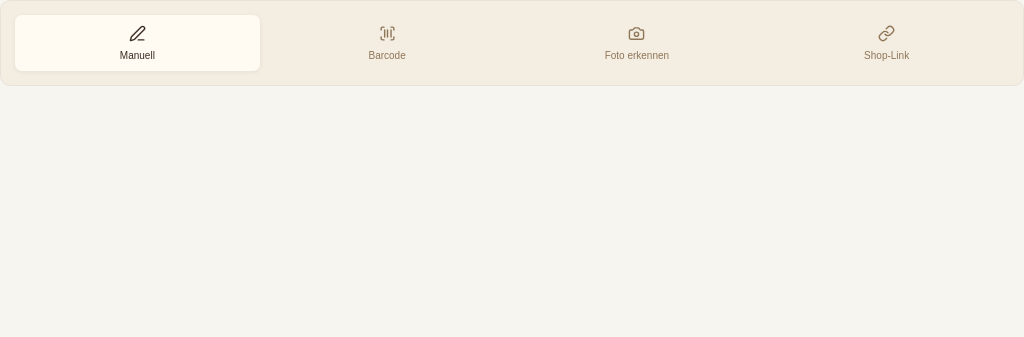
it: Erfassung und Bestand bedienen › does not send photos without both an image and consent
Click the button "Foto erkennen" at point(637, 43), box left=514, top=15, right=759, bottom=71
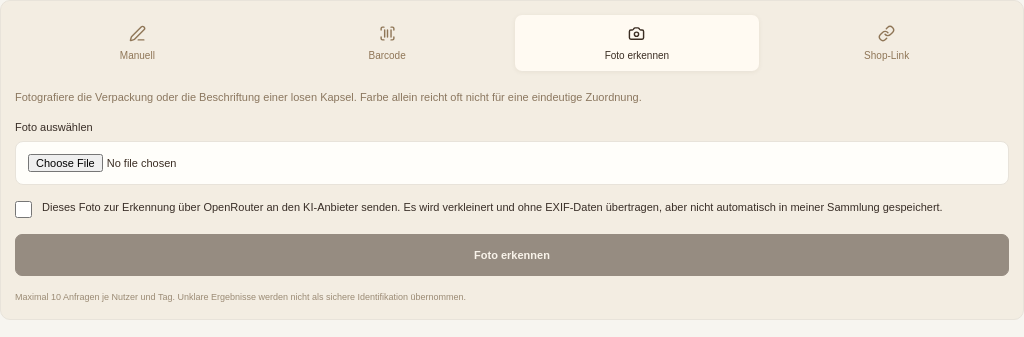
Expected: the button "Foto erkennen" below "Foto auswählen" is disabled, left=15, top=234, right=1009, bottom=276
Expected: the checkbox is not checked, left=15, top=201, right=32, bottom=218
